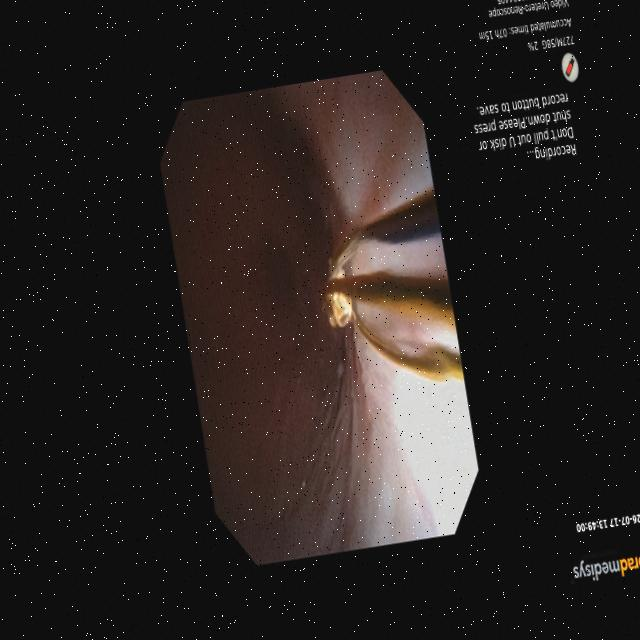stone-new: (327, 292, 353, 326), (333, 268, 345, 279)
